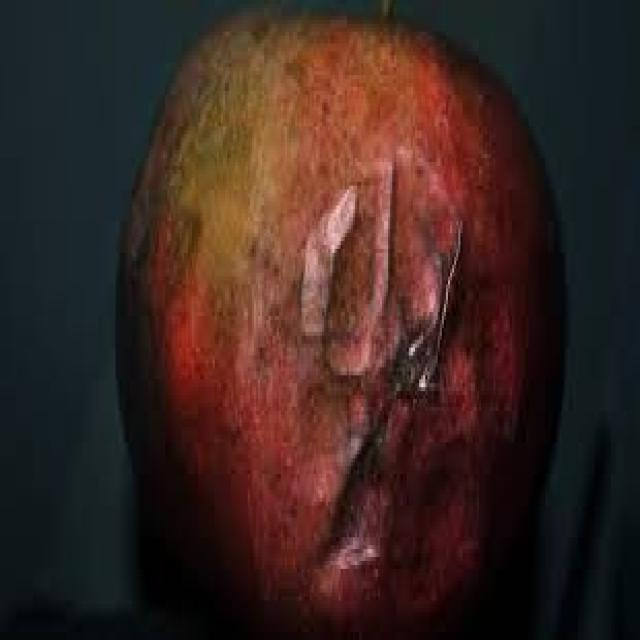organic waste: (114, 8, 566, 636)
